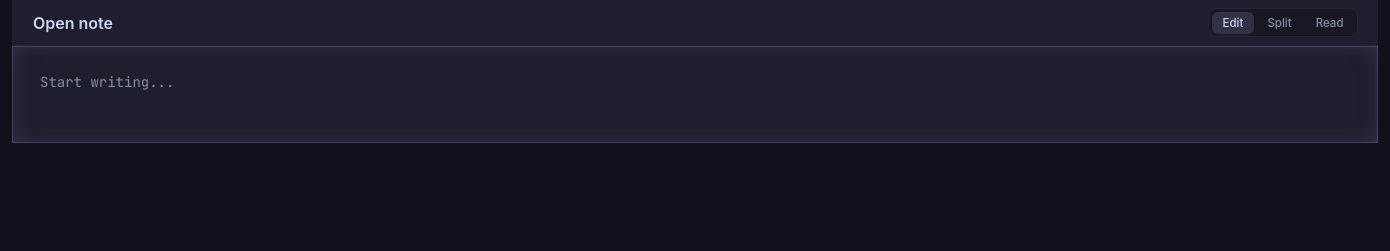
Link autocomplete (#548) › opens on [ [ with the most recently edited notes, minus the open one
Type "See [ [" into the text box with class "editor-textarea" at [695, 94], box x1=12 y1=46 x2=1378 y2=143
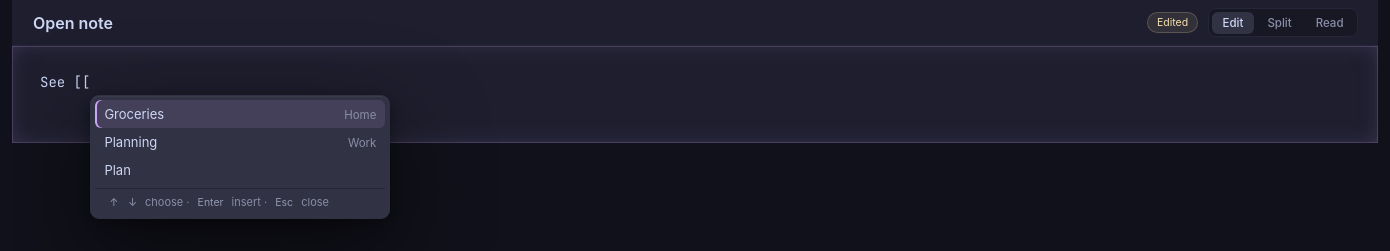
Check: the list is shown, box x1=95 y1=100 x2=385 y2=184
